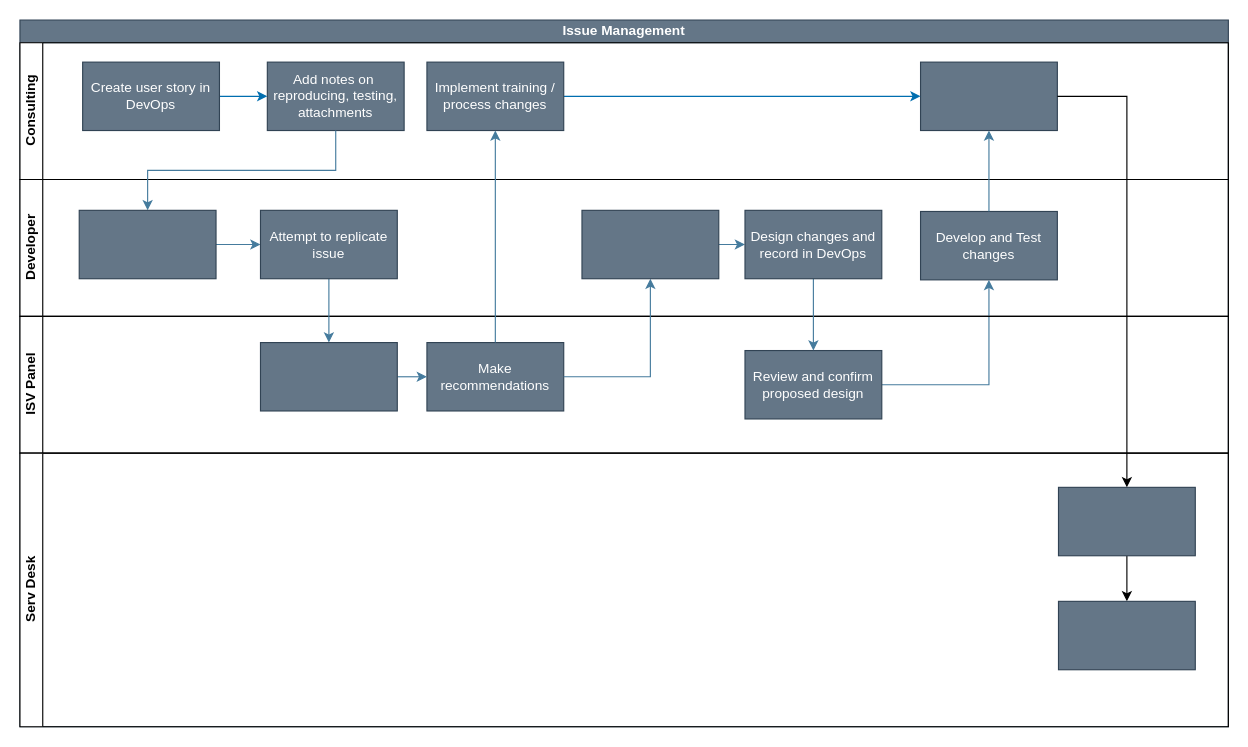
This 1248x747 diagram has some shape labels left out. Each missing label, with the centre of its shape:
"Create change request" goes at point 650,244.
"Finalise testing and authorise release" goes at point 988,96.
"Notify customers and install new version" goes at point 1126,635.
"Review findings with Consultant and Developer" goes at point 328,376.
"Review notes and materials" goes at point 147,244.
"Update documentation" goes at point 1126,521.
